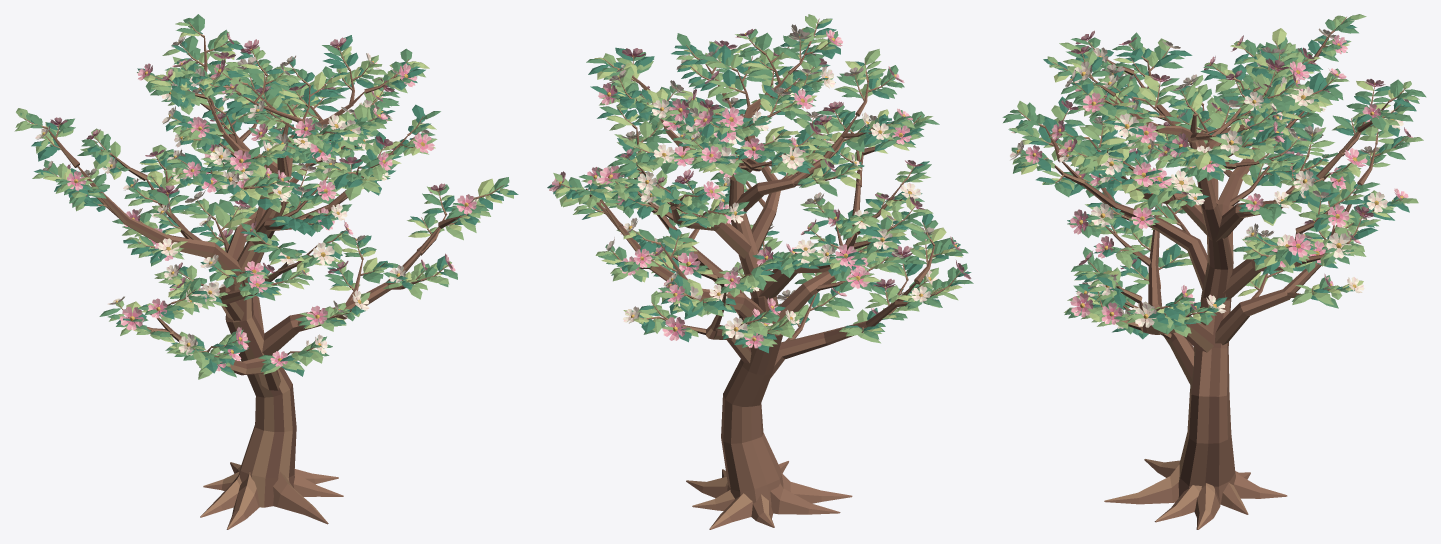
File: bloom.glb
3 renders of one model, left to right at view 1: azimuth 30°, elevation 25°; view 2: azimuth 150°, elevation 25°; view 3: azimuth 270°, elevation 25°, orthographic. The views are drawn at different scales.
Visible parts, largest first — view 1: Heartwood.004, Leaf spray 03.003, Leaf spray 05.003, Leaf spray 08.003, Leaf spray 10.003, Leaf spray 09.003, Leaf spray 06.003, Leaf spray 07.003, Leaf spray 04.003, Leaf spray 01.003, Leaf spray 02.003, Flower spray 10.001 (+9 smaller); view 2: Heartwood.004, Leaf spray 05.003, Leaf spray 09.003, Leaf spray 03.003, Leaf spray 08.003, Leaf spray 06.003, Leaf spray 04.003, Leaf spray 01.003, Leaf spray 10.003, Leaf spray 02.003, Leaf spray 07.003, Flower spray 06.001 (+9 smaller); view 3: Heartwood.004, Leaf spray 09.003, Leaf spray 01.003, Leaf spray 06.003, Leaf spray 03.003, Leaf spray 05.003, Leaf spray 08.003, Leaf spray 02.003, Leaf spray 10.003, Leaf spray 04.003, Leaf spray 07.003, Flower spray 07.001 (+9 smaller).
Boxes of the visible parts, x1,y1,x2,y2 form: Heartwood.004: [23, 22, 503, 529]; Leaf spray 03.003: [32, 14, 488, 376]; Leaf spray 05.003: [45, 29, 490, 373]; Leaf spray 08.003: [56, 36, 454, 326]; Leaf spray 10.003: [54, 65, 518, 374]; Leaf spray 09.003: [123, 61, 422, 358]; Leaf spray 06.003: [124, 58, 457, 331]; Leaf spray 07.003: [31, 45, 440, 366]; Leaf spray 04.003: [75, 57, 401, 379]; Leaf spray 01.003: [78, 60, 384, 360]; Leaf spray 02.003: [14, 35, 436, 335]; Flower spray 10.001: [137, 58, 392, 366]; Heartwood.004: [562, 18, 960, 529]; Leaf spray 05.003: [595, 35, 942, 342]; Leaf spray 09.003: [553, 32, 945, 333]; Leaf spray 03.003: [586, 14, 938, 333]; Leaf spray 08.003: [579, 49, 931, 338]; Leaf spray 06.003: [569, 31, 968, 305]; Leaf spray 04.003: [547, 65, 946, 343]; Leaf spray 01.003: [616, 65, 939, 353]; Leaf spray 10.003: [597, 41, 933, 317]; Leaf spray 02.003: [586, 29, 973, 334]; Leaf spray 07.003: [590, 33, 953, 335]; Flower spray 06.001: [596, 46, 971, 340]; Heartwood.004: [1017, 17, 1407, 529]; Leaf spray 09.003: [1014, 38, 1395, 319]; Leaf spray 01.003: [1002, 37, 1390, 282]; Leaf spray 06.003: [1008, 32, 1395, 322]; Leaf spray 03.003: [1043, 44, 1426, 339]; Leaf spray 05.003: [1036, 40, 1395, 307]; Leaf spray 08.003: [1043, 28, 1423, 320]; Leaf spray 02.003: [1011, 14, 1380, 328]; Leaf spray 10.003: [1059, 39, 1390, 333]; Leaf spray 04.003: [1042, 53, 1404, 324]; Leaf spray 07.003: [1067, 35, 1340, 337]; Flower spray 07.001: [1095, 49, 1411, 302].
Bounding box in the file's own units: 2.9 × 3 × 2.61.
